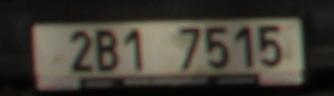1: (125, 27, 147, 70), (237, 27, 256, 69)
2: (68, 29, 93, 73)
5: (204, 26, 229, 69), (259, 24, 284, 66)
7: (179, 26, 200, 71)
B: (96, 31, 120, 70)
